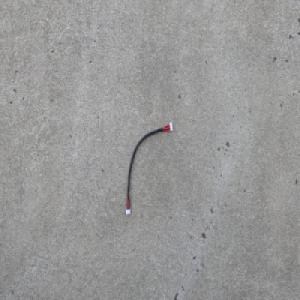Wire: (124, 120, 174, 216)
